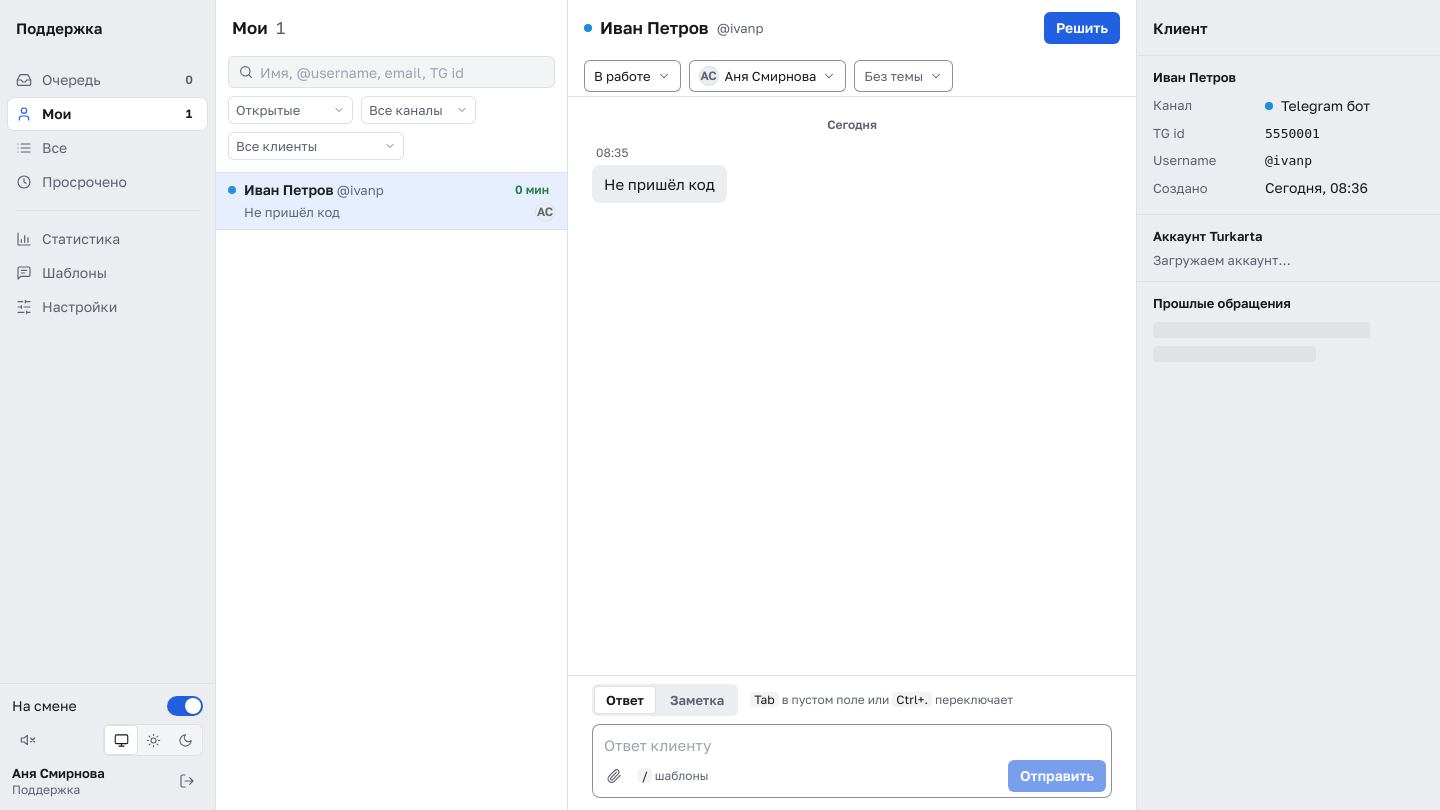
it: Composer › opens canned replies with / at line start and inserts the filled template
The image size is (1440, 810).
Expected: the list named "Переписка" is shown, [592, 117, 877, 203]
Type "/" into the text box labelled "Ответ клиенту" at point(852, 742), box [592, 724, 1112, 760]
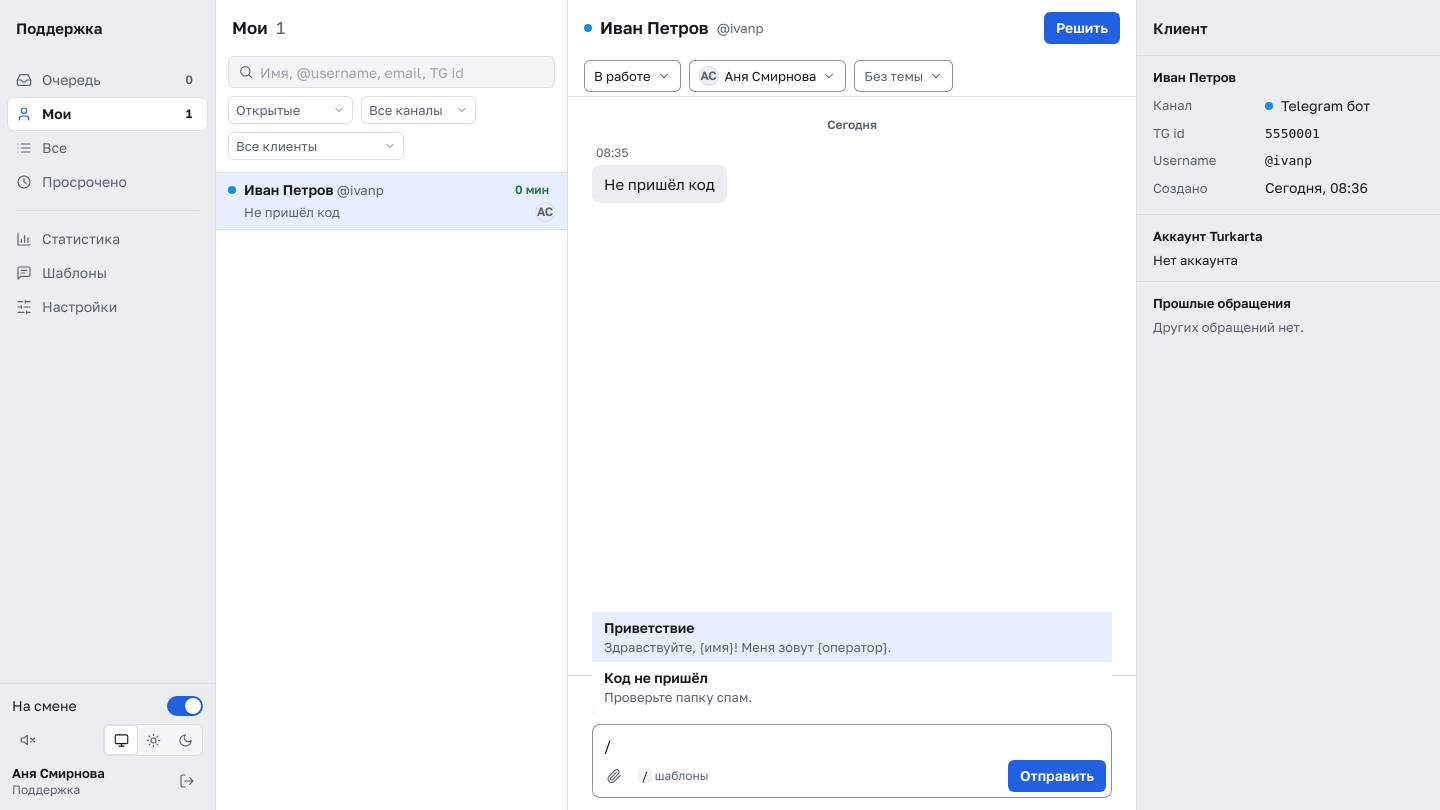
Now the number of options is 2, box [592, 612, 1112, 662]; [604, 669, 752, 705]
Replace the text in the text box named "Ответ клиенту" with "/код" at point(852, 742), box [592, 724, 1112, 760]
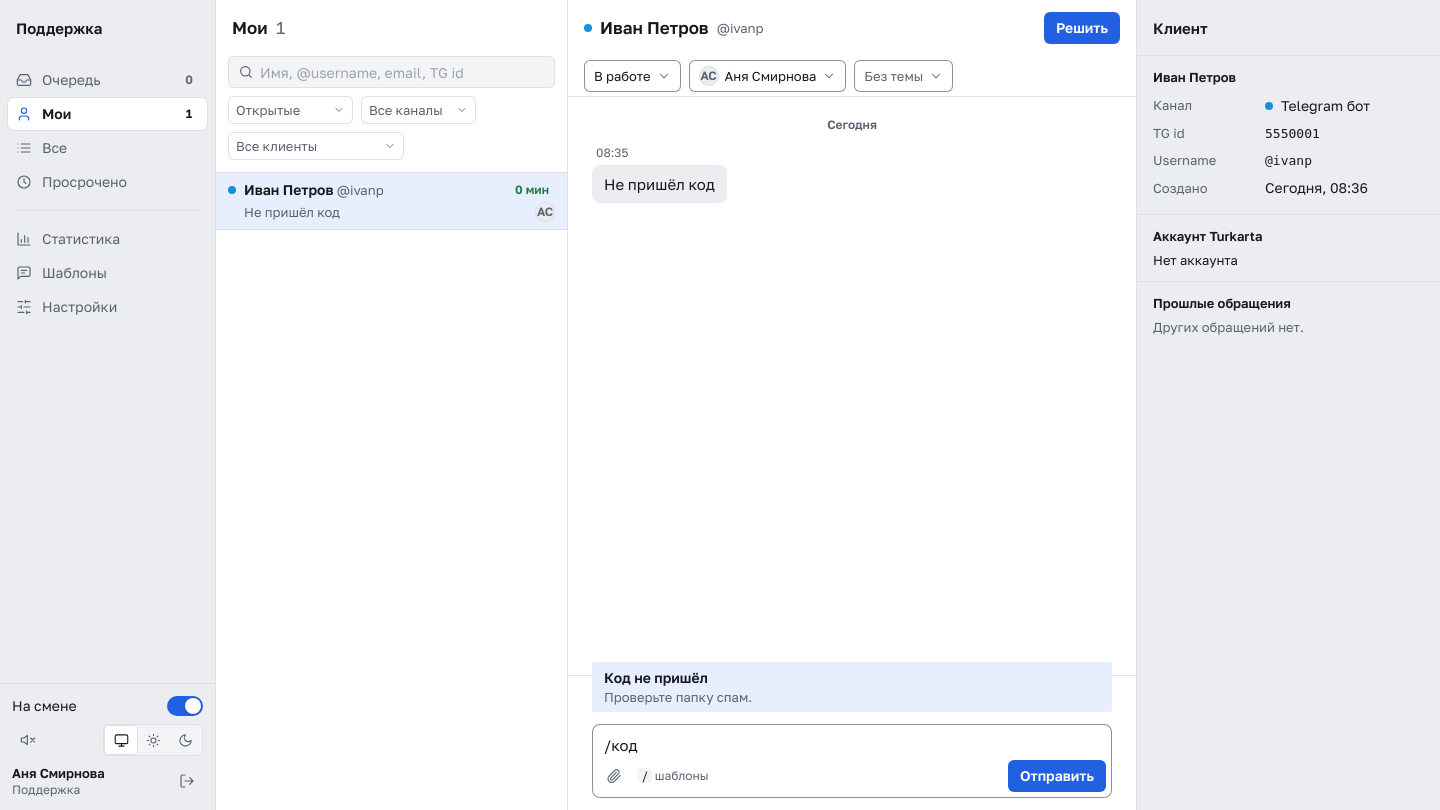
Now the number of options is 1, box [592, 662, 1112, 712]
Replace the text in the text box named "Ответ клиенту" with "/" at point(852, 742), box [592, 724, 1112, 760]
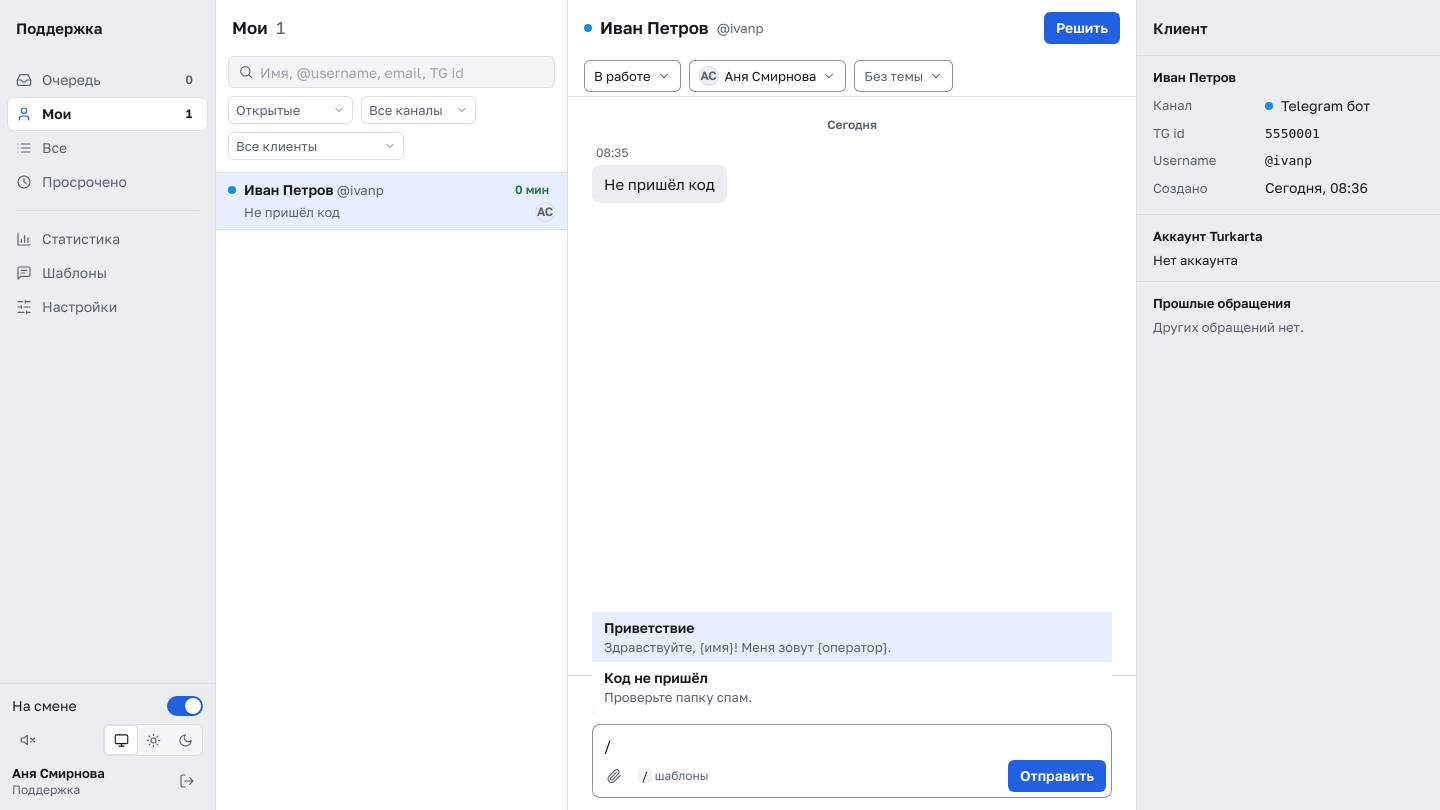
Now the number of options is 2, box [592, 612, 1112, 662]; [604, 669, 752, 705]
Press ArrowDown in the text box named "Ответ клиенту", box [592, 724, 1112, 760]
Press ArrowUp in the text box named "Ответ клиенту", box [592, 724, 1112, 760]
Press Enter in the text box named "Ответ клиенту", box [592, 724, 1112, 760]
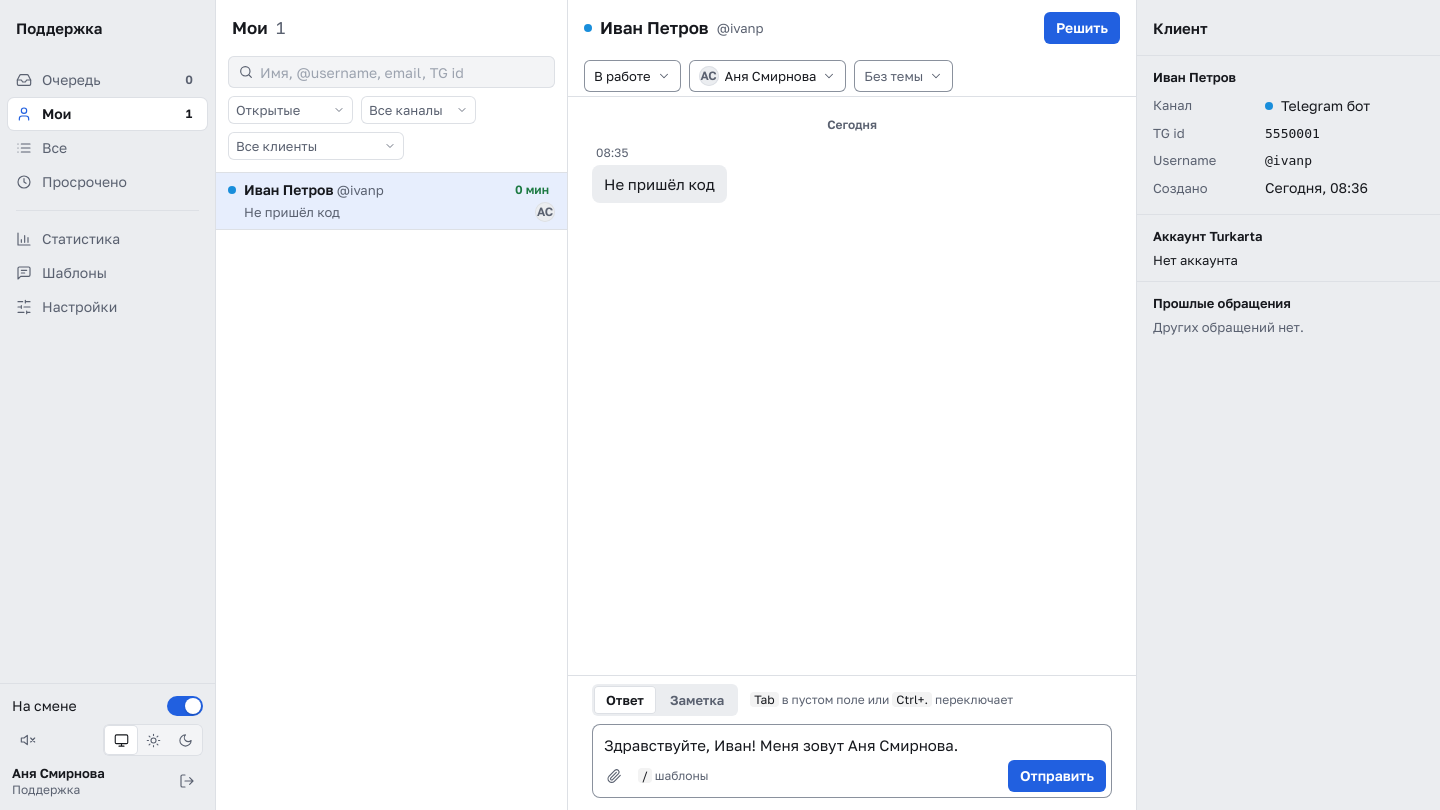
Now the text box named "Ответ клиенту" holds "Здравствуйте, Иван! Меня зовут Аня Смирнова.", box [592, 724, 1112, 760]
